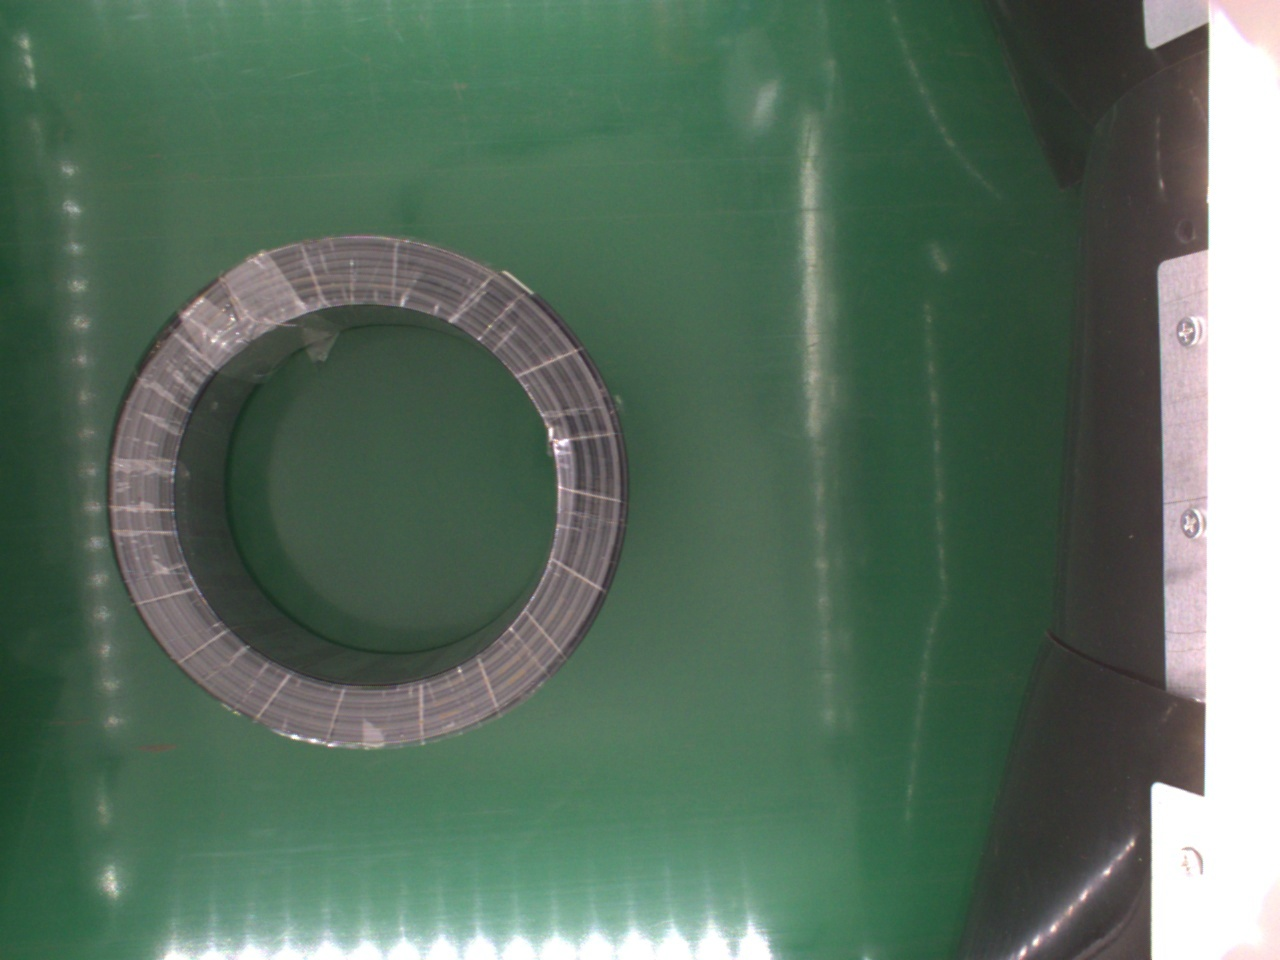black: (101, 235, 630, 751)
